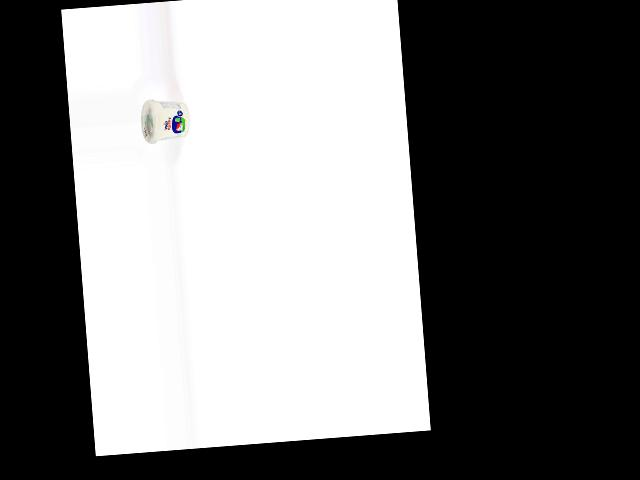cotage: (139, 96, 193, 146)
